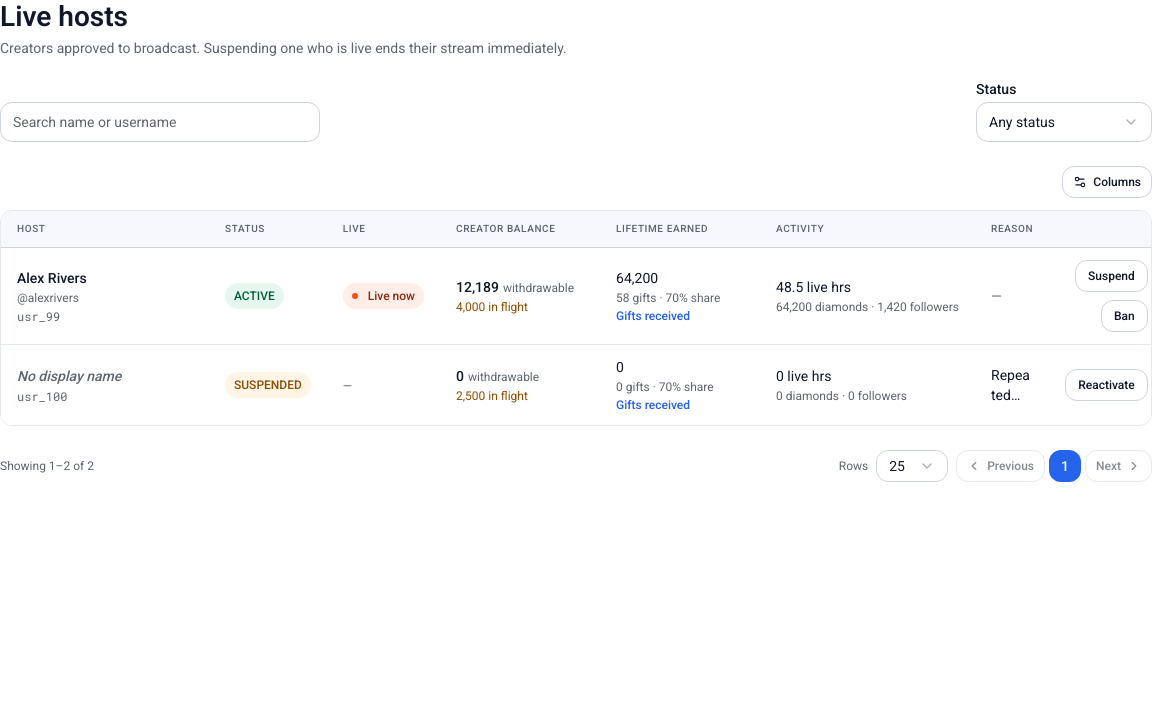
Test: whether they are on air › warns in the suspend dialog that a broadcast is running
The image size is (1152, 720).
Expected: the text "Alex Rivers" is shown, [17,270,87,286]
Click the button with aria-label "suspend alex rivers" at x=1111, y=276, box [1075,260,1148,292]
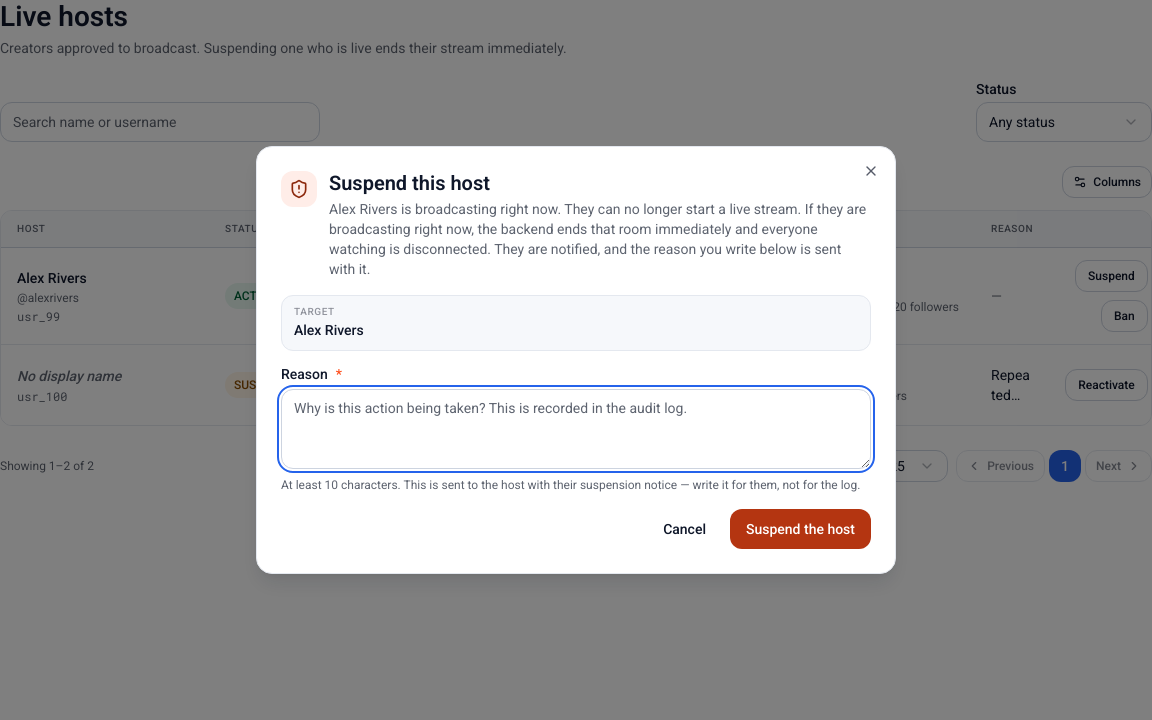
Expected: the text "Alex Rivers is broadcasting right now" is shown, [329,201,866,277]
